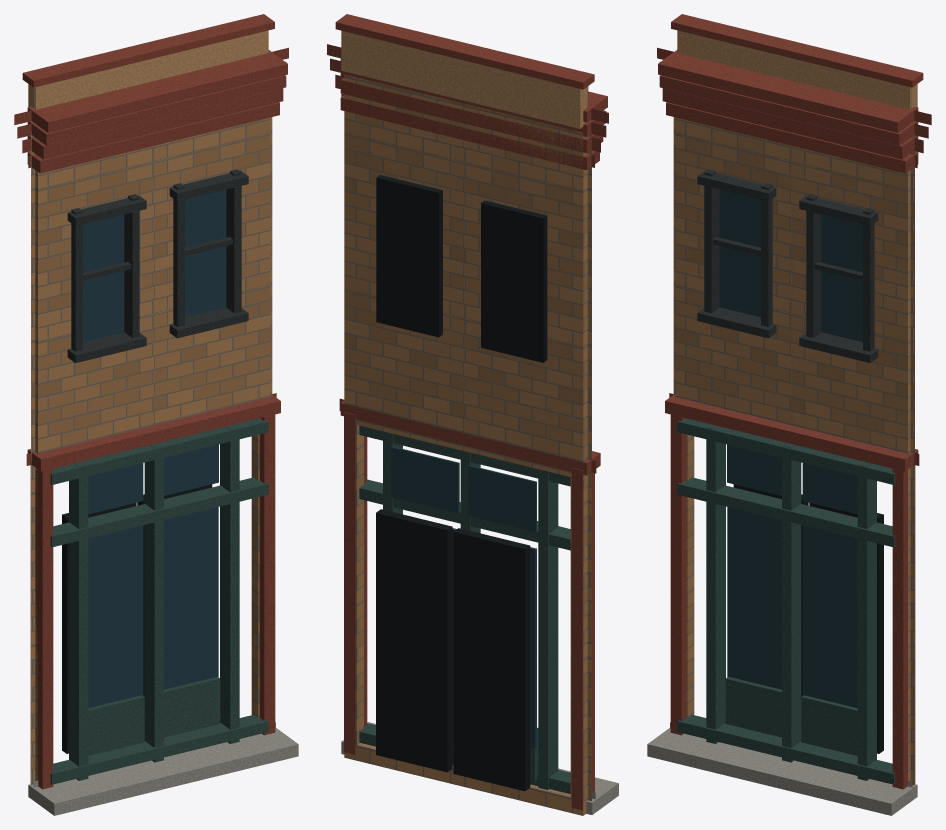
The model's file is BUSS1_lod2.glb.
3 views of the same model, side by side, from view 1: azimuth 30°, elevation 25°; view 2: azimuth 150°, elevation 25°; view 3: azimuth 330°, elevation 25° (orthographic). The views are drawn at different scales.
Parts seen in each view (by area): view 1: BUSS1_FRONT_LOD2; view 2: BUSS1_FRONT_LOD2; view 3: BUSS1_FRONT_LOD2.
Part boxes in pixels (left/top/right/bottom): BUSS1_FRONT_LOD2: left=14, top=14, right=298, bottom=815; BUSS1_FRONT_LOD2: left=327, top=14, right=618, bottom=815; BUSS1_FRONT_LOD2: left=647, top=14, right=931, bottom=815.
Size of the model in its own units: 3.78 by 9.44 by 1.
Materials: 9 (7 with a texture image).
